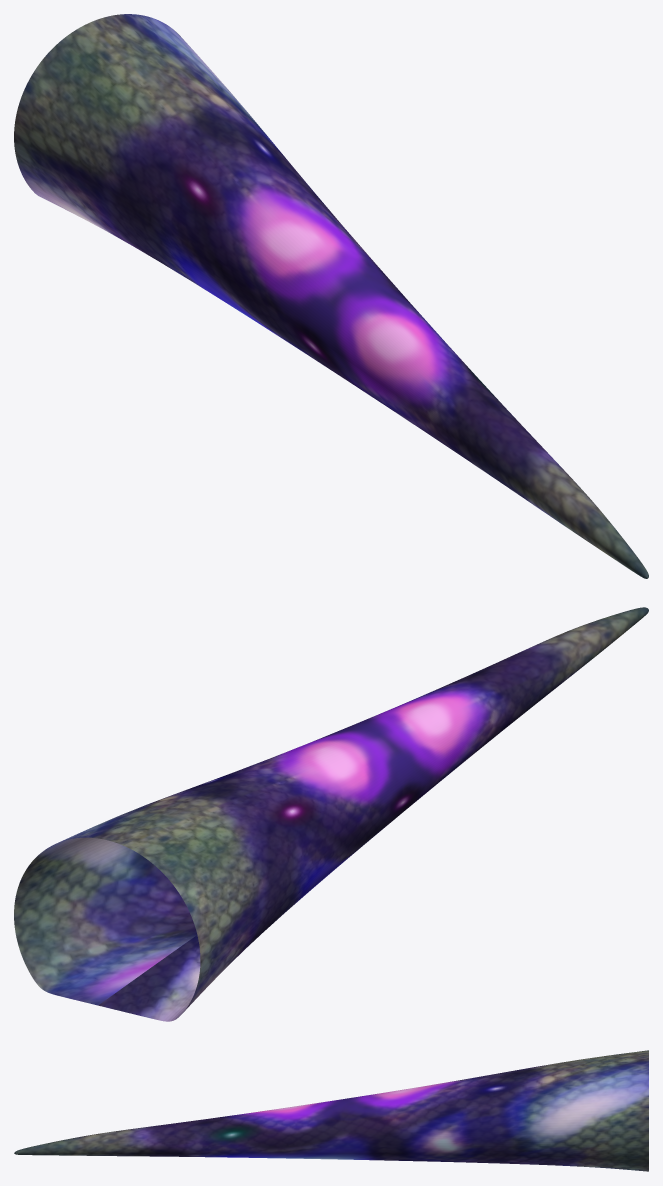
File: SnakeTail.fbx
3 views of the same model, one above another, from view 1: azimuth 30°, elevation 25°; view 2: azimuth 150°, elevation 25°; view 3: azimuth 270°, elevation 25° (orthographic). The views are drawn at different scales.
Visible parts, largest first — view 1: Circle; view 2: Circle; view 3: Circle.
Boxes of the visible parts, left/top/right/bottom form: Circle: left=14, top=14, right=648, bottom=578; Circle: left=14, top=607, right=648, bottom=1021; Circle: left=14, top=1050, right=648, bottom=1171.
Bounding box in the file's own units: 199 × 172 × 999.
